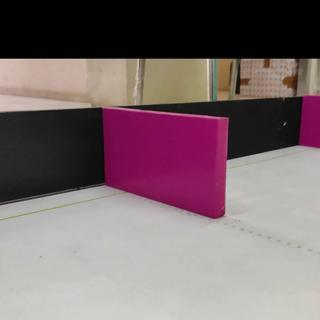xparking: (111, 117, 223, 205)
